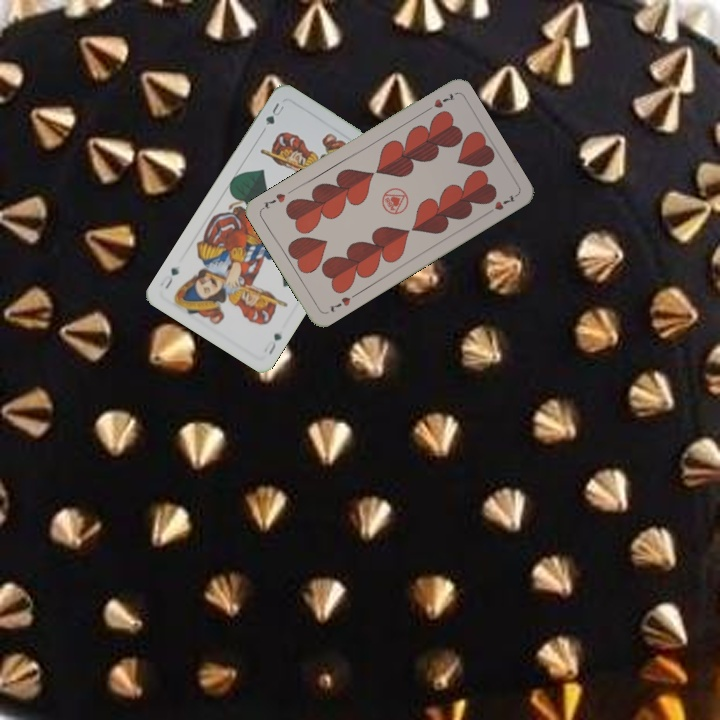GU: (261, 99, 286, 128), (264, 329, 284, 357)
H7: (420, 89, 457, 115), (325, 292, 353, 315)
